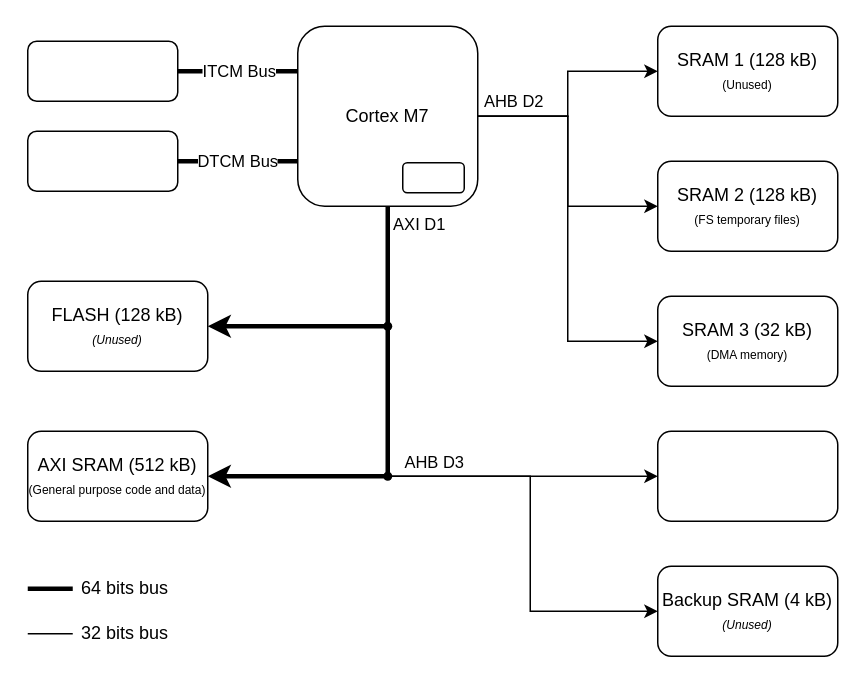
This 864x683 diagram has some shape labels left out. Here are the shapes that lost their labels. From the top down, the centre of each, then its label:
At (x=102, y=70): "ITCM (64 kB) (kernel code)".
At (x=102, y=160): "DTCM (128kB) (kernel, stack & buffer data)".
At (x=432, y=177): "L1-Cache".
At (x=747, y=475): "SRAM 4 (64 kB) (Unused)".
